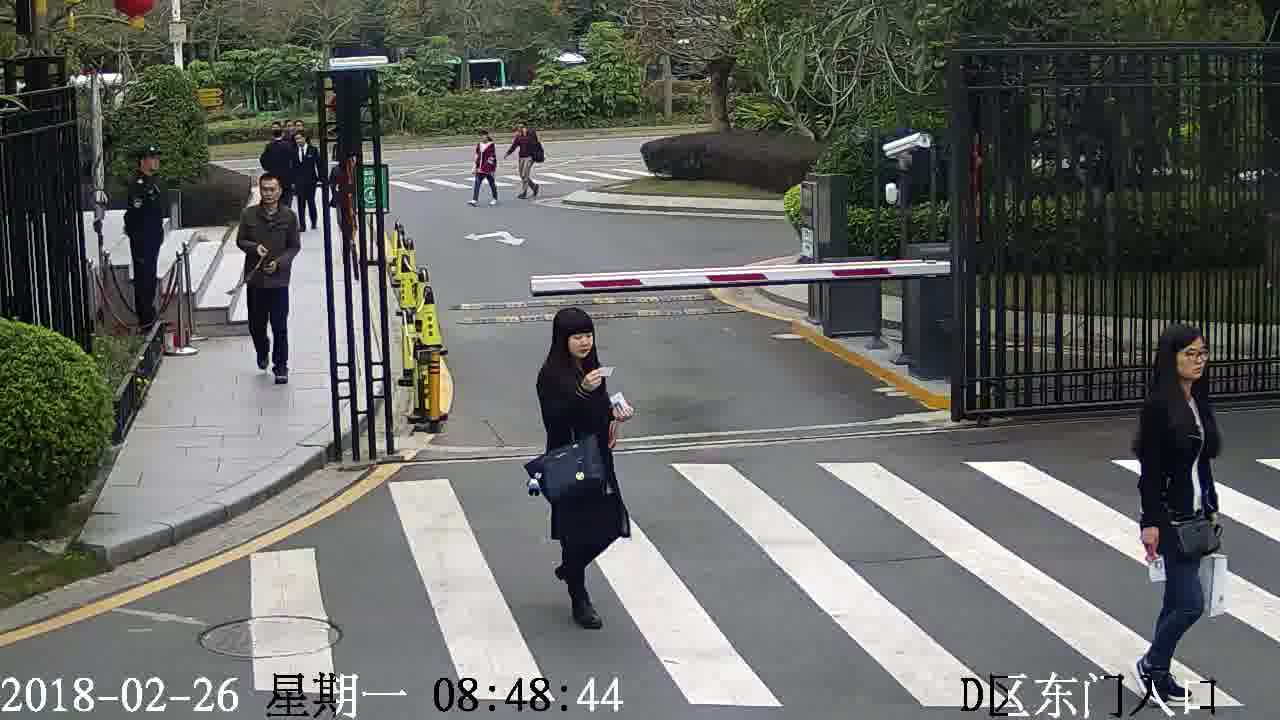face: (1167, 332, 1214, 379), (567, 327, 596, 362), (255, 177, 283, 206)
person: (1140, 321, 1215, 427), (533, 307, 614, 390), (241, 172, 300, 225), (129, 145, 164, 194), (262, 118, 293, 153), (287, 124, 319, 156), (512, 121, 539, 141), (474, 129, 497, 151)
